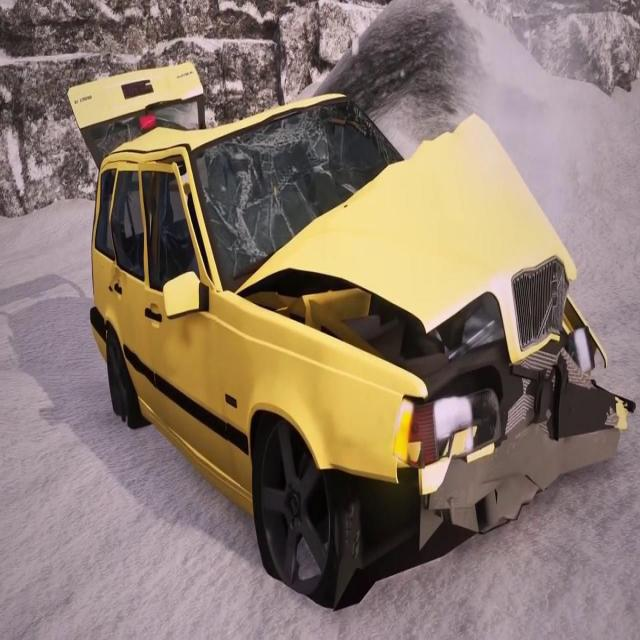accident: (65, 56, 633, 618)
